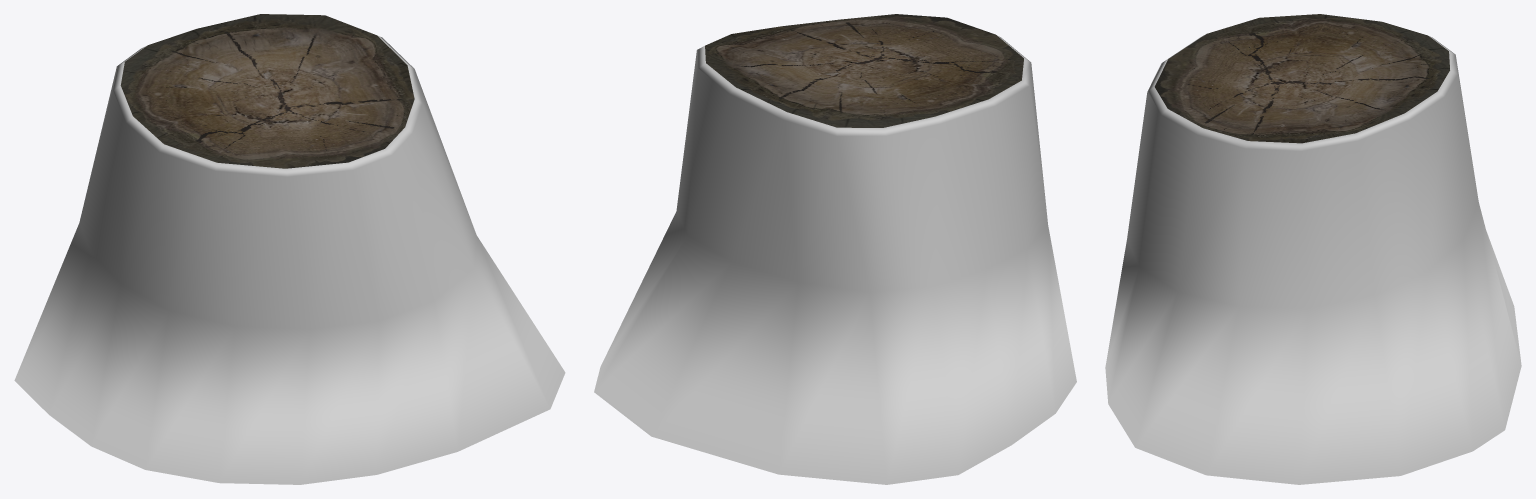
Rendered from arden_forest_bench_03.fbx.
The picture shows the model from 3 angles, left to right: view 1: azimuth 30°, elevation 25°; view 2: azimuth 150°, elevation 25°; view 3: azimuth 270°, elevation 25°; orthographic projection. The views are drawn at different scales.
Parts seen in each view (by area): view 1: arden_forest_bench_03; view 2: arden_forest_bench_03; view 3: arden_forest_bench_03.
Part boxes in pixels (x1,y1,x2,y2): arden_forest_bench_03: (14, 14, 565, 484); arden_forest_bench_03: (594, 14, 1076, 484); arden_forest_bench_03: (1105, 14, 1521, 484).
Bounding box in the file's own units: 0.8034 × 0.7138 × 0.5983.
